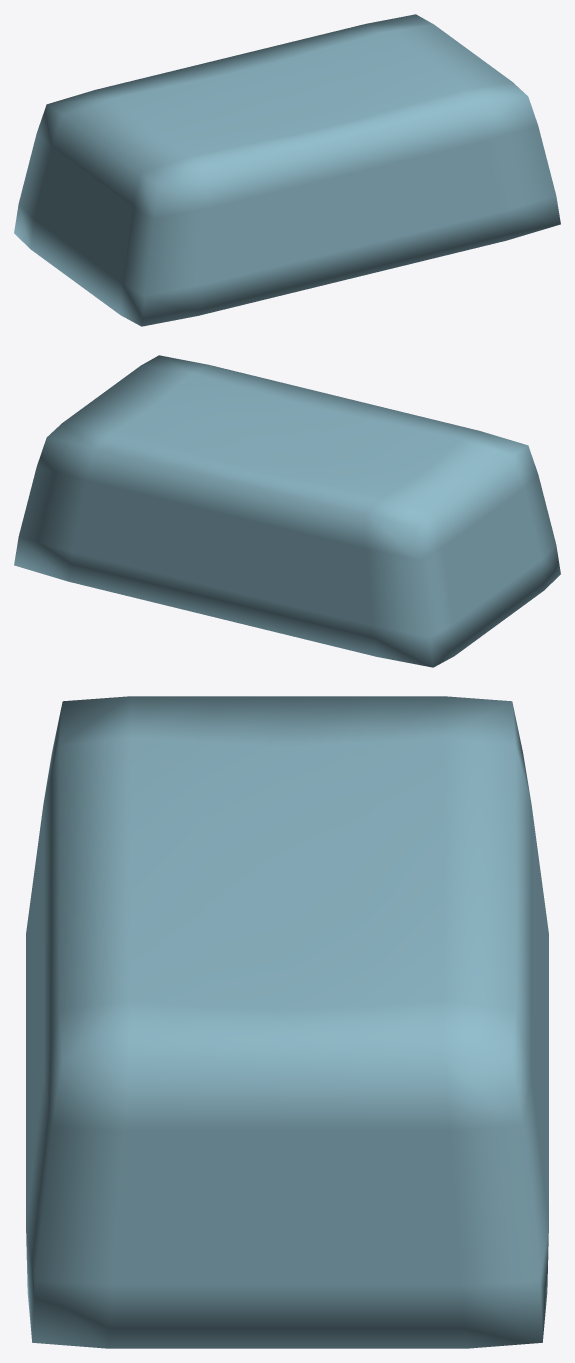
File: ingot_titanium_web.glb
3 renders of one model, top to bottom at view 1: azimuth 30°, elevation 25°; view 2: azimuth 150°, elevation 25°; view 3: azimuth 270°, elevation 25°, orthographic. The views are drawn at different scales.
Parts seen in each view (by area): view 1: ingot_titanium; view 2: ingot_titanium; view 3: ingot_titanium.
Boxes of the visible parts, x1,y1,x2,y2 form: ingot_titanium: (14,14,560,326); ingot_titanium: (14,355,560,667); ingot_titanium: (26,696,548,1348).
Bounding box in the file's own units: 1 × 0.3172 × 0.5345.
